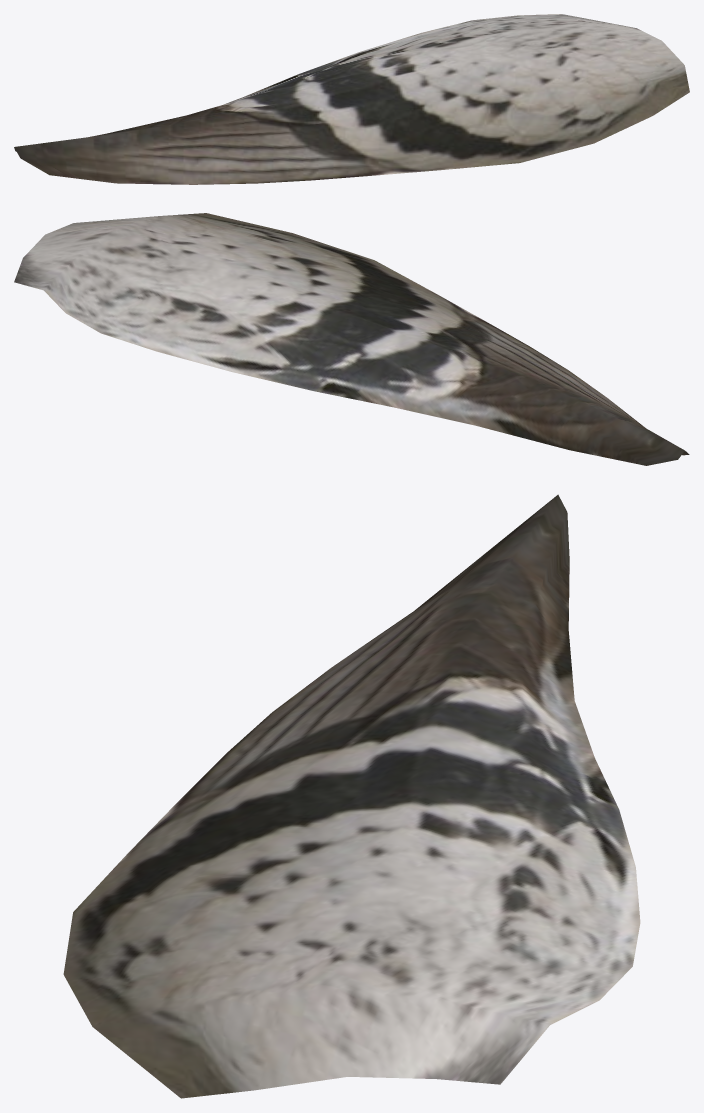
Rendered from SM_A_Pigeon00_Wing01.fbx.
3 views of the same model, one above another, from view 1: azimuth 30°, elevation 25°; view 2: azimuth 150°, elevation 25°; view 3: azimuth 270°, elevation 25° (orthographic). The views are drawn at different scales.
Parts seen in each view (by area): view 1: SM_A_Pigeon00_Wing01; view 2: SM_A_Pigeon00_Wing01; view 3: SM_A_Pigeon00_Wing01.
Boxes of the visible parts, <box> form: SM_A_Pigeon00_Wing01: <box>14,14,689,184</box>; SM_A_Pigeon00_Wing01: <box>14,213,689,465</box>; SM_A_Pigeon00_Wing01: <box>63,494,640,1098</box>.
Bounding box in the file's own units: 78.97 × 5.32 × 33.13.
